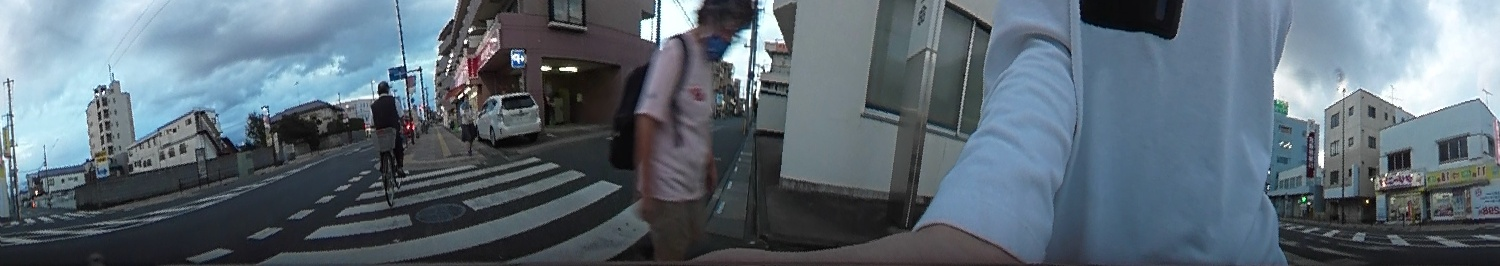difficult_person: (455, 92, 479, 153)
person: (621, 0, 761, 260), (363, 78, 409, 179)
